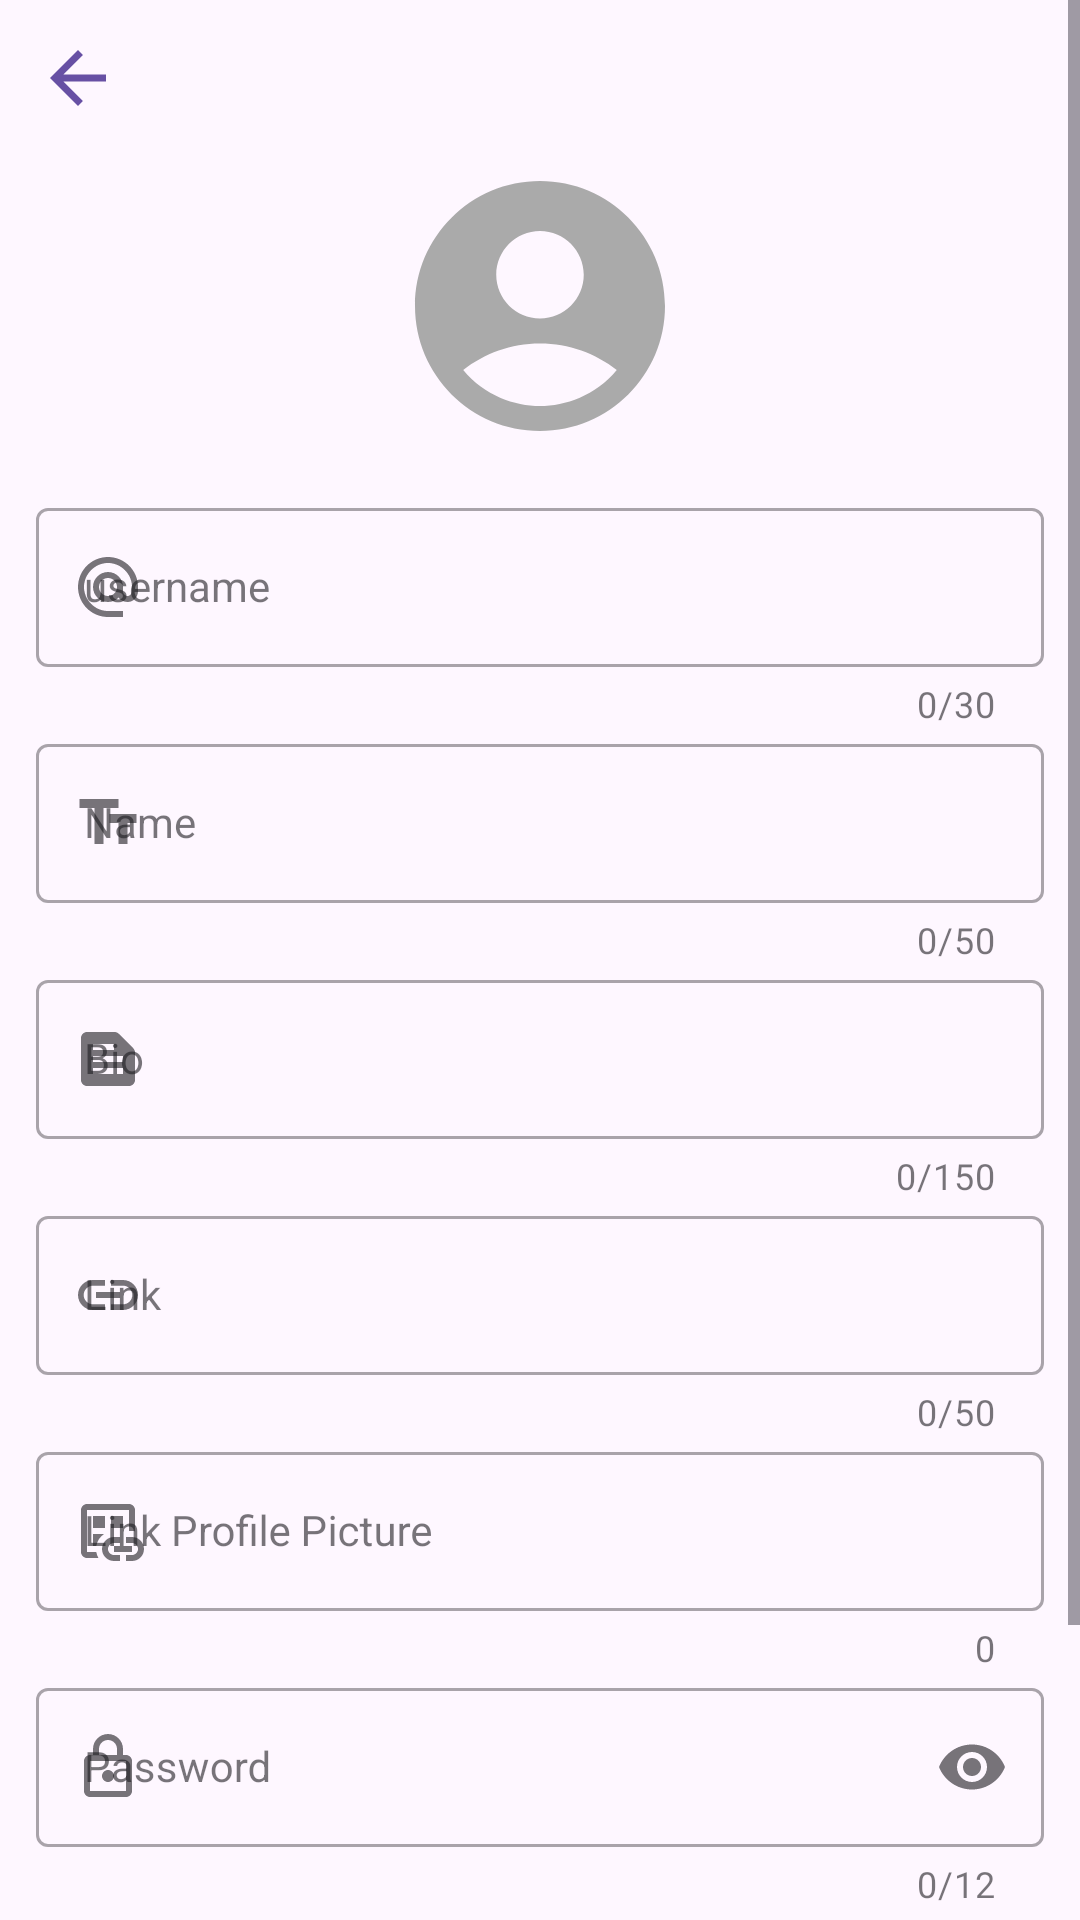

Screen size 1080×1920. Icon name, then its box in pixels as (x1, y1, x2, y2):
arrow back: (50, 50, 106, 106)
profile: (415, 181, 665, 431)
